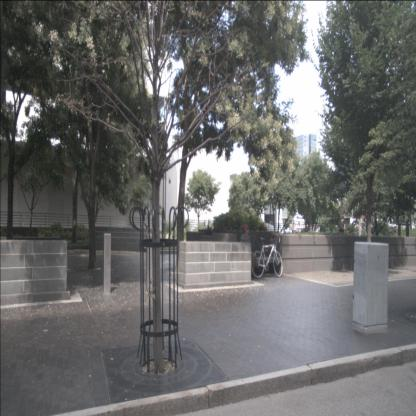human-pedestrian-adult: (239, 224, 256, 278), (338, 215, 346, 252)
vehicle-bicycle: (251, 233, 283, 279)
